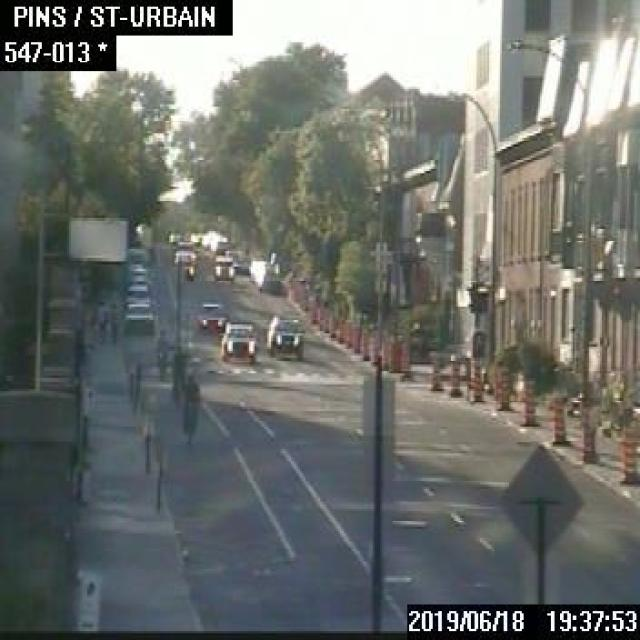construction: (618, 422, 638, 482), (549, 396, 567, 444), (580, 414, 595, 464), (493, 371, 509, 409), (522, 386, 536, 424), (471, 366, 485, 402), (447, 356, 460, 394), (429, 355, 441, 389), (369, 330, 379, 362), (352, 324, 361, 352), (362, 328, 370, 358), (345, 319, 353, 347), (328, 312, 336, 337), (336, 316, 344, 341), (310, 298, 317, 322), (318, 306, 323, 330), (323, 312, 328, 332)
cyclist: (180, 371, 201, 441), (155, 328, 169, 377)
vehicle: (264, 311, 304, 358), (220, 320, 256, 361), (196, 301, 226, 332), (123, 301, 153, 330), (222, 246, 245, 272), (255, 270, 281, 292), (172, 238, 195, 262), (211, 254, 234, 277), (125, 283, 151, 303), (247, 255, 266, 279), (126, 266, 149, 282), (209, 233, 230, 250), (126, 244, 145, 261), (200, 229, 217, 247), (184, 251, 194, 277)
